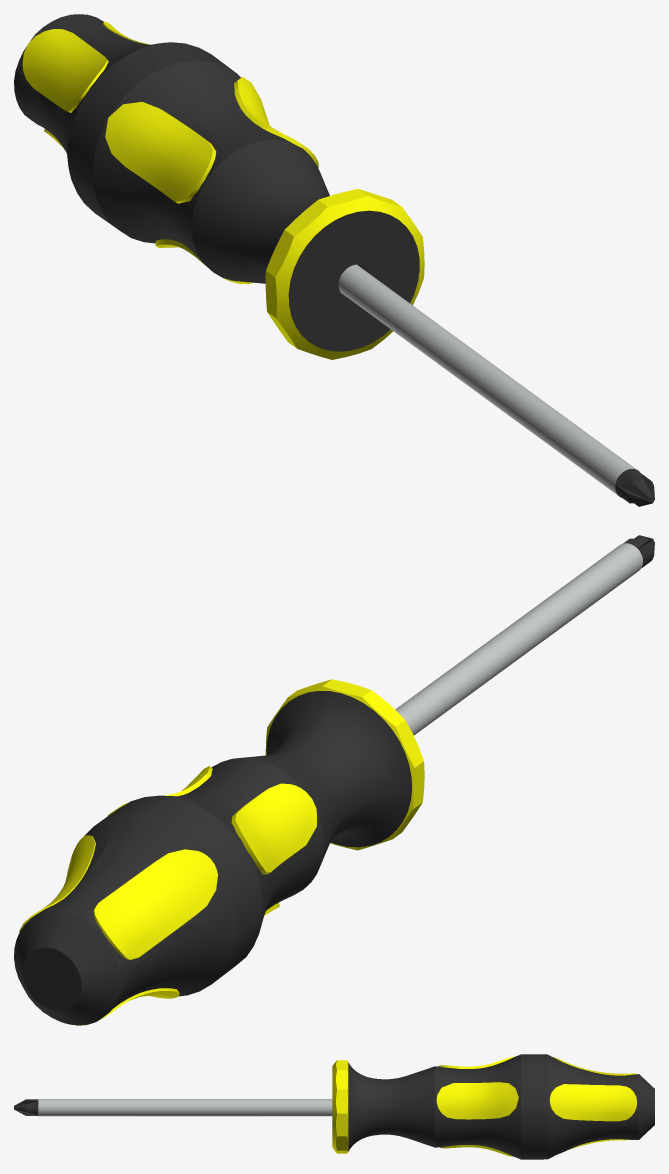
File: 03-Cross_Screwdriver_04.fbx
3 renders of one model, top to bottom at view 1: azimuth 30°, elevation 25°; view 2: azimuth 150°, elevation 25°; view 3: azimuth 270°, elevation 25°, orthographic. The views are drawn at different scales.
Visible parts, largest first — view 1: Cross_Screwdriver, Cross Screwdriver - V2; view 2: Cross_Screwdriver, Cross Screwdriver - V2; view 3: Cross_Screwdriver, Cross Screwdriver - V2.
Part boxes in pixels (x1,y1,x2,y2): Cross_Screwdriver: (14,14,424,359); Cross Screwdriver - V2: (338,264,654,506); Cross_Screwdriver: (14,679,424,1025); Cross Screwdriver - V2: (395,535,654,735); Cross_Screwdriver: (332,1054,654,1159); Cross Screwdriver - V2: (14,1099,332,1116).
Size of the model in its own units: 6.42 by 6.52 by 39.2.
1 material, 1 textured.
